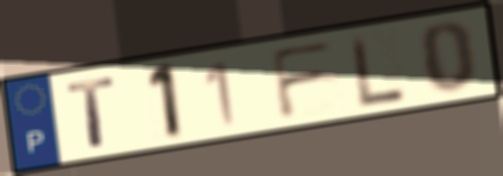0: (416, 17, 482, 97)
1: (144, 59, 185, 142), (203, 58, 237, 128)
F: (267, 37, 339, 122)
L: (346, 31, 409, 110)
T: (63, 74, 119, 150)
